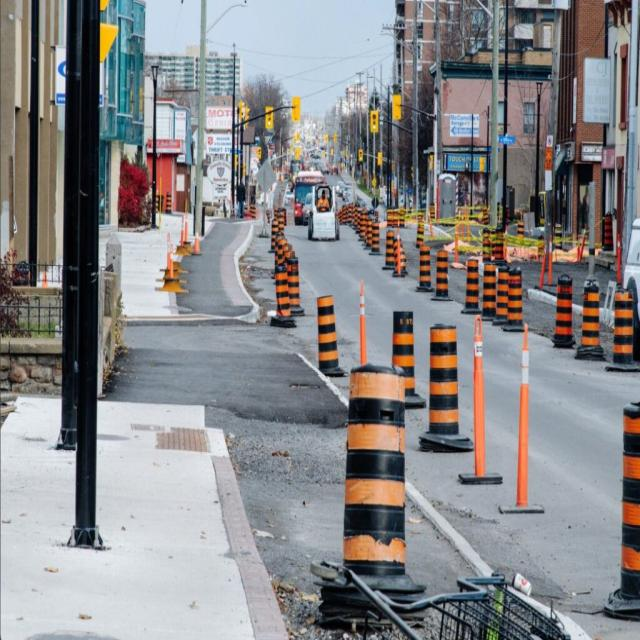cone: (191, 228, 203, 259)
